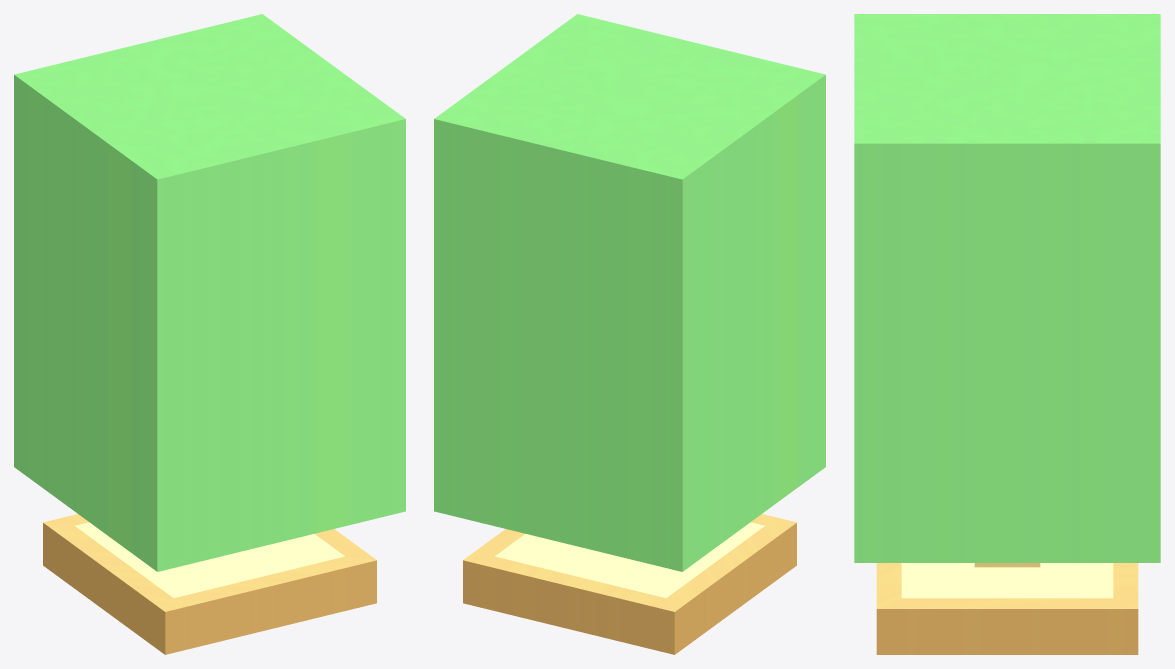
Rendered from trees.009.glb.
3 renders of one model, left to right at view 1: azimuth 30°, elevation 25°; view 2: azimuth 150°, elevation 25°; view 3: azimuth 270°, elevation 25°, orthographic. The views are drawn at different scales.
Parts seen in each view (by area): view 1: trees.009(Clone); view 2: trees.009(Clone); view 3: trees.009(Clone).
Boxes of the visible parts, x1,y1,x2,y2 form: trees.009(Clone): (14,14,405,654); trees.009(Clone): (434,14,825,654); trees.009(Clone): (854,14,1160,654).
Bounding box in the file's own units: 1.24 × 2.32 × 1.24.
1 material, 1 textured.
